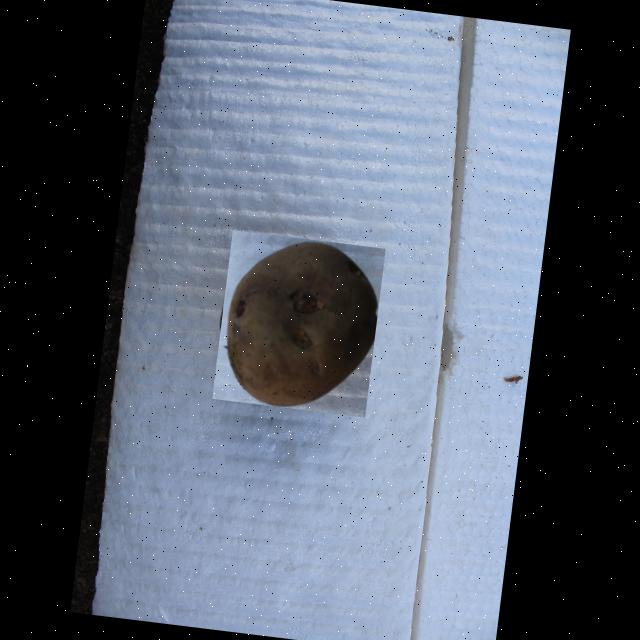Diseased-fungal potato: (212, 228, 386, 416)
